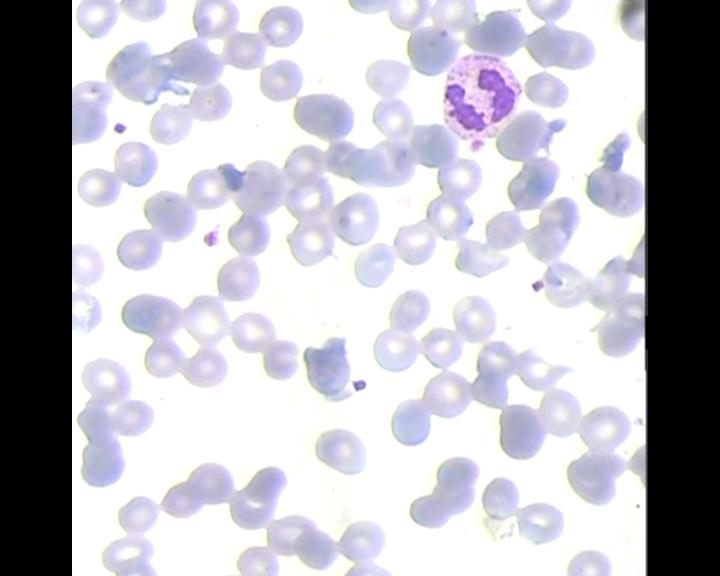neut: (436, 46, 523, 146)
